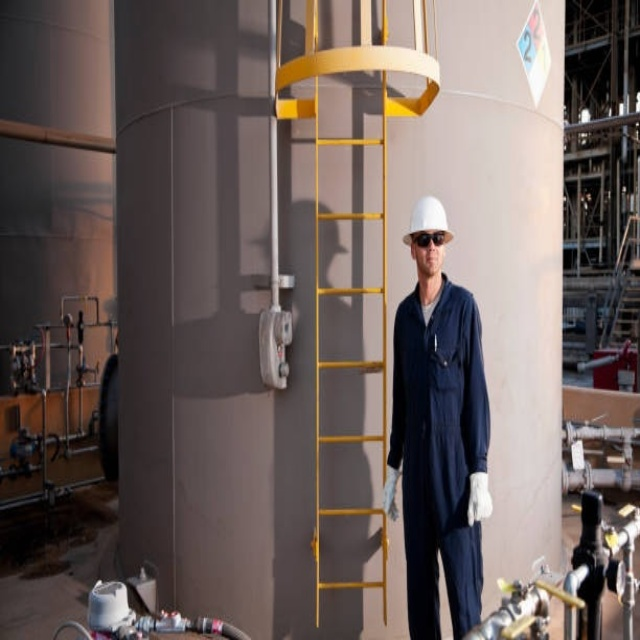Gafas: (415, 233, 445, 247)
Guantes: (467, 472, 493, 528), (382, 465, 401, 521)
Sin_mascara: (419, 251, 444, 271)
